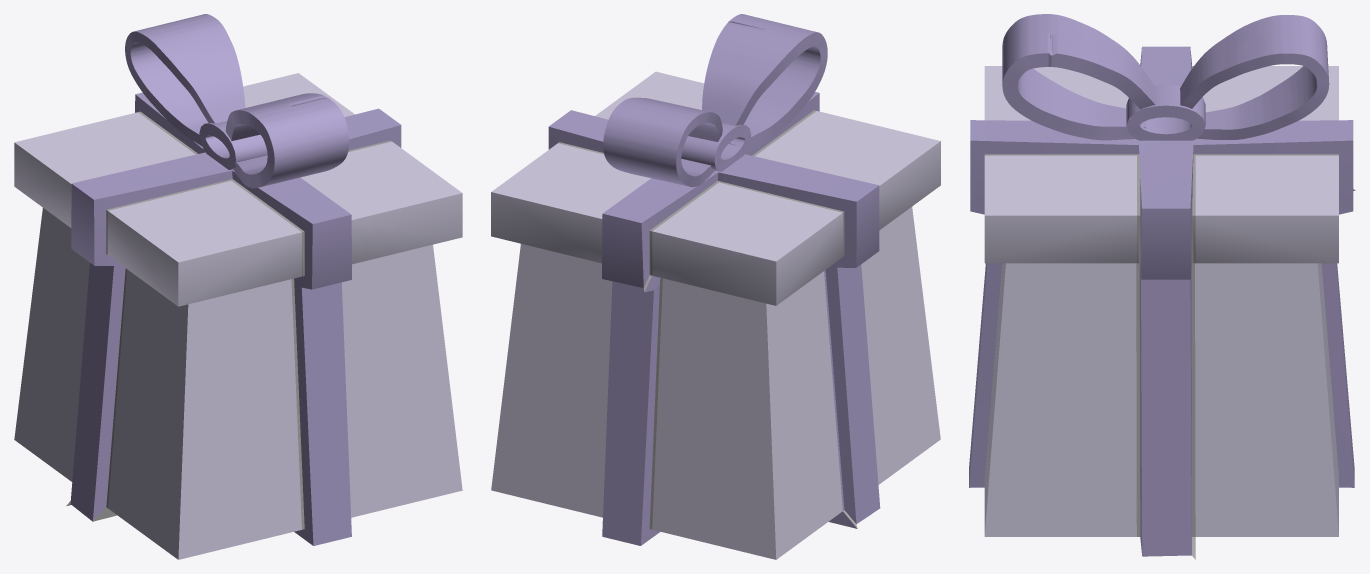
Rendered from present 1.fbx.
The picture shows the model from 3 angles, left to right: view 1: azimuth 30°, elevation 25°; view 2: azimuth 150°, elevation 25°; view 3: azimuth 270°, elevation 25°; orthographic projection. The views are drawn at different scales.
Parts seen in each view (by area): view 1: pCube1, pCube4, pCube3, pCylinder1; view 2: pCube1, pCube3, pCube4, pCylinder1; view 3: pCube1, pCube3, pCube4, pCylinder1.
Part boxes in pixels (<box>): pCube1: <box>14,73,462,559</box>; pCube4: <box>125,14,245,145</box>; pCube3: <box>225,93,349,188</box>; pCylinder1: <box>199,121,267,169</box>; pCube1: <box>491,71,940,559</box>; pCube3: <box>702,14,827,151</box>; pCube4: <box>603,97,722,187</box>; pCylinder1: <box>681,123,751,171</box>; pCube1: <box>969,46,1355,559</box>; pCube3: <box>1002,14,1155,140</box>; pCube4: <box>1180,15,1329,139</box>; pCylinder1: <box>1126,85,1205,140</box>.
Size of the model in its own units: 1156 by 1447 by 1143.
